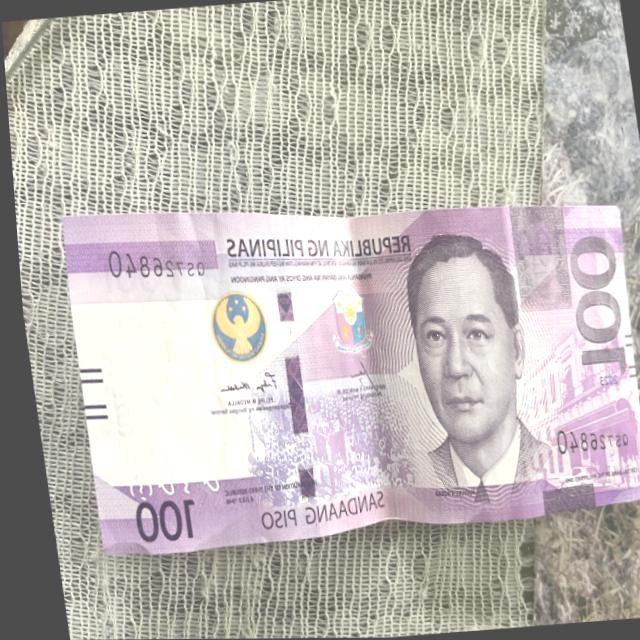concealed_value: (500, 205, 571, 316)
security_thread: (261, 233, 321, 531)
see_through_mark: (100, 455, 220, 512)
serial_number: (93, 237, 210, 294), (539, 427, 629, 469)
value: (554, 227, 627, 380)
value_watermark: (98, 381, 132, 443)
